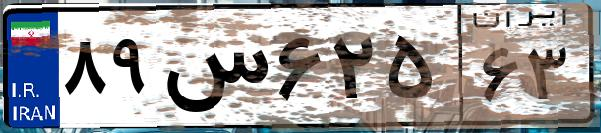2: (330, 28, 385, 110)
3: (525, 38, 570, 115)
5: (385, 28, 445, 110)
6: (270, 28, 330, 110), (475, 38, 525, 113)
8: (57, 26, 110, 100)
9: (110, 28, 158, 98)
س: (158, 20, 270, 120)
